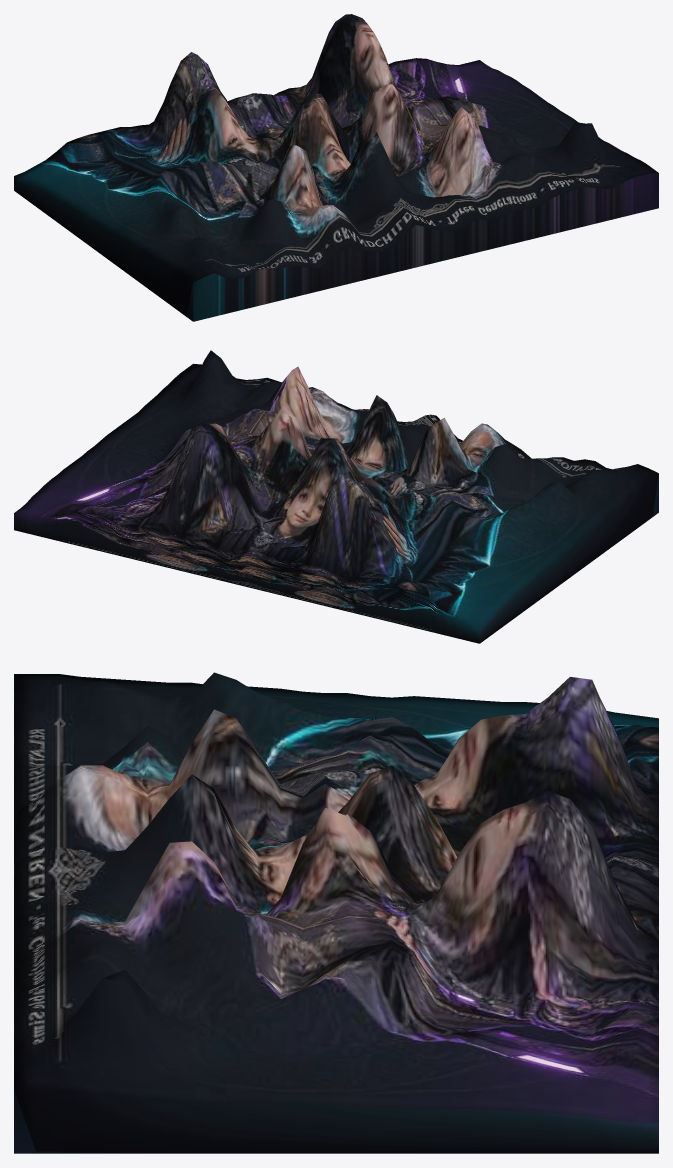
The model's file is RELATIONSHIP_39_Grandchildren.glb.
The picture shows the model from 3 angles, top to bottom: view 1: azimuth 30°, elevation 25°; view 2: azimuth 150°, elevation 25°; view 3: azimuth 270°, elevation 25°; orthographic projection. The views are drawn at different scales.
Visible parts, largest first — view 1: RELATIONSHIP_39_Grandchildren; view 2: RELATIONSHIP_39_Grandchildren; view 3: RELATIONSHIP_39_Grandchildren.
Boxes of the visible parts, <box> form: RELATIONSHIP_39_Grandchildren: <box>14,14,658,321</box>; RELATIONSHIP_39_Grandchildren: <box>14,350,658,643</box>; RELATIONSHIP_39_Grandchildren: <box>14,672,658,1153</box>.
Size of the model in its own units: 2 by 0.51 by 1.33.
Materials: 1 (1 with a texture image).
